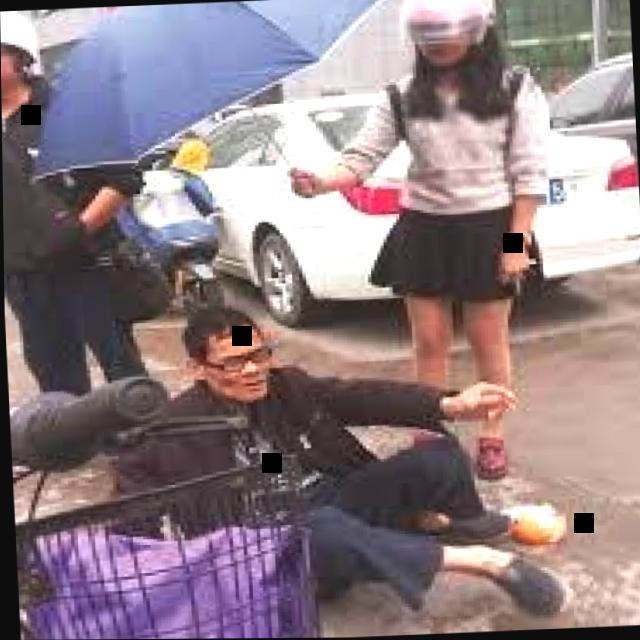Fall-Detected: (97, 257, 589, 639)
